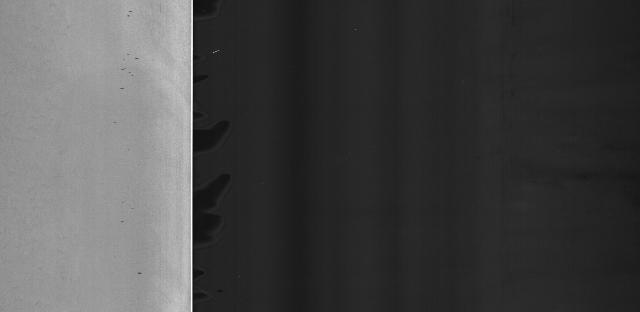inclusion: (132, 263, 156, 282), (116, 83, 134, 94), (117, 63, 130, 74), (131, 53, 146, 62), (124, 7, 133, 19)
silk_spot: (1, 5, 70, 302)
